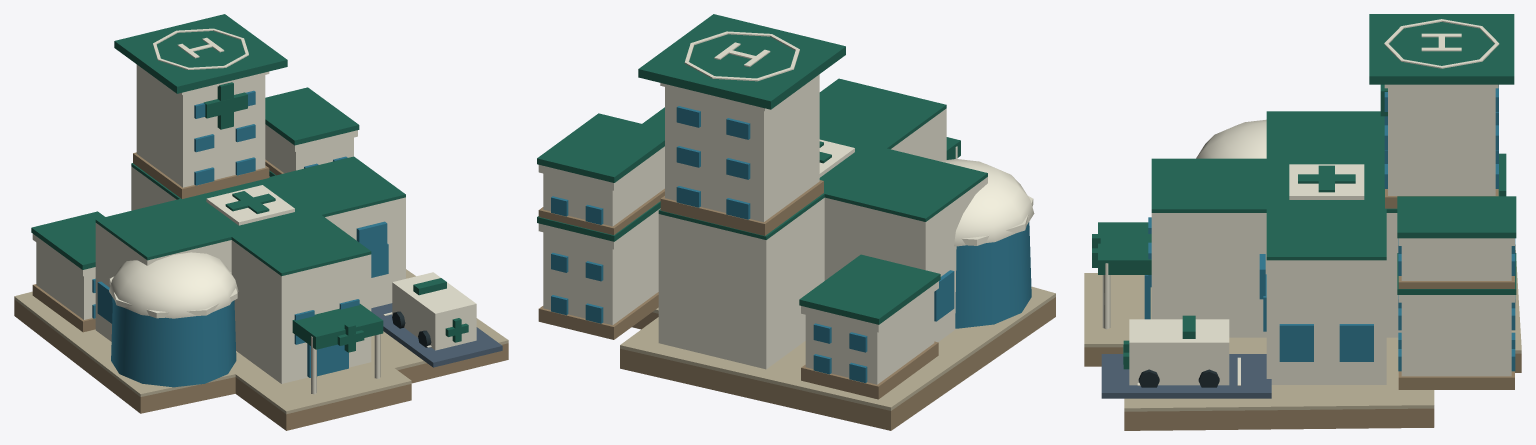
The model's file is medical-center-lv5.glb.
3 renders of one model, left to right at view 1: azimuth 30°, elevation 25°; view 2: azimuth 150°, elevation 25°; view 3: azimuth 270°, elevation 25°, orthographic. The views are drawn at different scales.
Parts seen in each view (by area): view 1: cross_clinic_white, cross_clinic_jade, medical_tower_white, foundation_paving, diagnostics_rotunda_glass, foundation_stoneDark, helipad_jade, diagnostics_dome_white, ambulance_white, inpatient_upper_floor_roof_jade, inpatient_wing_white, inpatient_upper_floor_white (+15 smaller); view 2: cross_clinic_white, medical_tower_white, cross_clinic_jade, helipad_jade, foundation_stoneDark, diagnostics_wing_white, foundation_paving, inpatient_wing_white, diagnostics_rotunda_glass, inpatient_wing_roof_jade, inpatient_upper_floor_roof_jade, inpatient_upper_floor_white (+13 smaller); view 3: cross_clinic_white, cross_clinic_jade, medical_tower_white, foundation_paving, helipad_jade, diagnostics_wing_white, foundation_stoneDark, ambulance_white, inpatient_upper_floor_roof_jade, inpatient_upper_floor_white, ambulance_lane_slate, entry_canopy_jade (+13 smaller).
Boxes of the visible parts, x1,y1,x2,y2 form: cross_clinic_white: (95, 166, 405, 383); cross_clinic_jade: (95, 156, 405, 276); medical_tower_white: (136, 64, 269, 187); foundation_paving: (14, 269, 508, 414); diagnostics_rotunda_glass: (111, 298, 236, 387); foundation_stoneDark: (14, 299, 508, 430); helipad_jade: (114, 14, 287, 93); diagnostics_dome_white: (109, 252, 238, 318); ambulance_white: (392, 272, 476, 350); inpatient_upper_floor_roof_jade: (265, 87, 359, 145); inpatient_wing_white: (32, 234, 95, 319); inpatient_upper_floor_white: (265, 124, 357, 173); cross_clinic_white: (658, 108, 987, 369); medical_tower_white: (660, 74, 819, 222); cross_clinic_jade: (642, 78, 987, 239); helipad_jade: (638, 14, 845, 109); foundation_stoneDark: (620, 297, 1055, 430); diagnostics_wing_white: (538, 208, 660, 325); foundation_paving: (620, 286, 1055, 410); inpatient_wing_white: (801, 281, 938, 384); diagnostics_rotunda_glass: (955, 222, 1031, 328); inpatient_wing_roof_jade: (799, 254, 940, 324); inpatient_upper_floor_roof_jade: (537, 113, 664, 182); inpatient_upper_floor_white: (538, 146, 664, 226); cross_clinic_white: (1151, 213, 1401, 384); cross_clinic_jade: (1151, 111, 1499, 260); medical_tower_white: (1384, 84, 1498, 195); foundation_paving: (1084, 244, 1521, 411); helipad_jade: (1369, 14, 1514, 84); diagnostics_wing_white: (1398, 295, 1514, 376); foundation_stoneDark: (1084, 347, 1521, 430); ambulance_white: (1129, 319, 1229, 385); inpatient_upper_floor_roof_jade: (1397, 196, 1516, 238); inpatient_upper_floor_white: (1398, 238, 1514, 280); ambulance_lane_slate: (1101, 354, 1271, 398); entry_canopy_jade: (1098, 222, 1151, 274).
Size of the model in its own units: 1 by 0.7302 by 0.9887.
